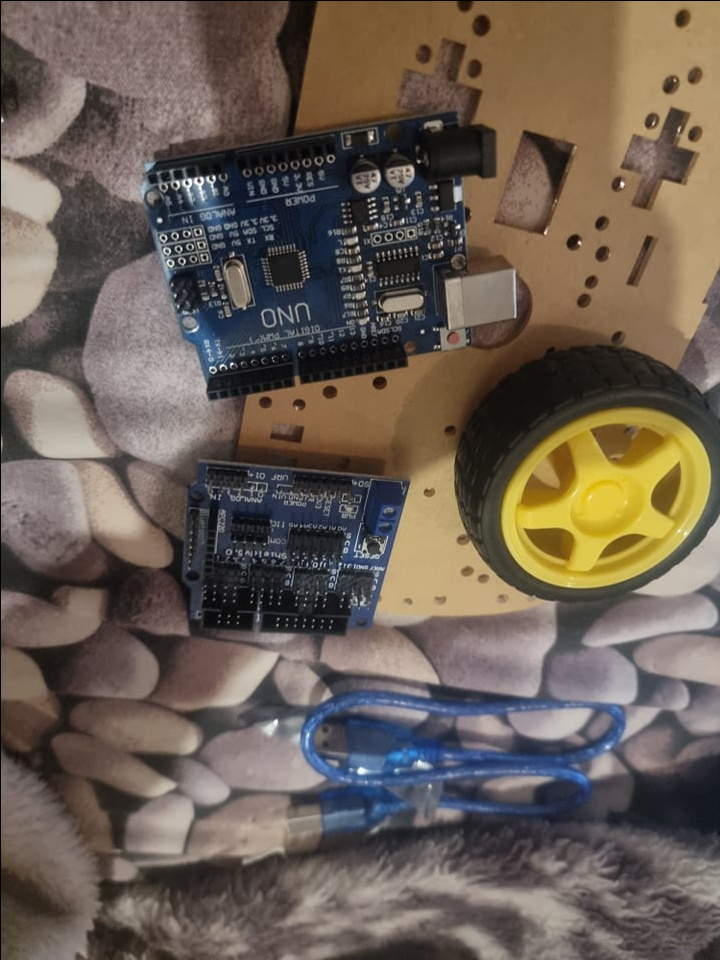5V EXPANSION: (179, 453, 413, 638)
UNO R3: (139, 110, 530, 403)
